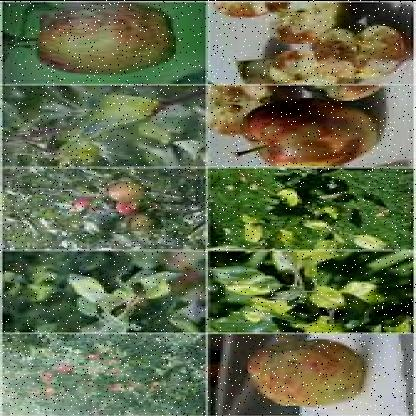damaged_apple: (253, 14, 401, 89), (240, 94, 384, 168), (30, 6, 178, 72), (252, 340, 384, 408)
